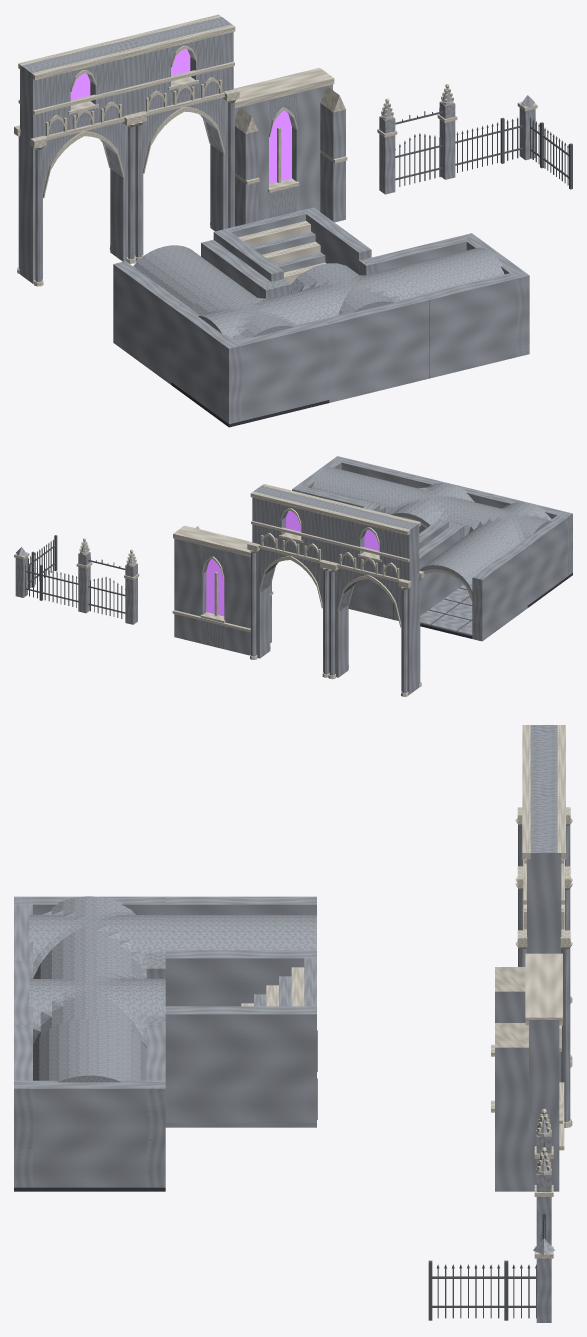
File: vampire-crypt-and-gothic-cathedral-cathedral-crypt-con-734285d9__23060.glb
The picture shows the model from 3 angles, top to bottom: view 1: azimuth 30°, elevation 25°; view 2: azimuth 150°, elevation 25°; view 3: azimuth 270°, elevation 25°; orthographic projection. The views are drawn at different scales.
Parts seen in each view (by area): view 1: 004-crypt-corridor-corner/1, 000-nave-bay/0, 005-crypt-corridor-tee/1, 006-crypt-corridor-end/1, 001-nave-bay/0, 002-aisle-bay/0, 003-crypt-corridor-straight/1, 007-crypt-stair/0, 000-nave-bay/2, 001-nave-bay/2, 002-aisle-bay/2, 011-iron-fence-gate/0 (+9 smaller); view 2: 003-crypt-corridor-straight/1, 000-nave-bay/0, 001-nave-bay/0, 002-aisle-bay/0, 004-crypt-corridor-corner/1, 006-crypt-corridor-end/1, 005-crypt-corridor-tee/1, 000-nave-bay/2, 001-nave-bay/2, 002-aisle-bay/2, 007-crypt-stair/0, 011-iron-fence-gate/0 (+7 smaller); view 3: 007-crypt-stair/0, 006-crypt-corridor-end/1, 002-aisle-bay/0, 004-crypt-corridor-corner/1, 005-crypt-corridor-tee/1, 003-crypt-corridor-straight/1, 001-nave-bay/0, 002-aisle-bay/2, 001-nave-bay/2, 000-nave-bay/0, 010-iron-fence-straight/0, 000-nave-bay/2 (+5 smaller).
Boxes of the visible parts, left/top/right/bottom form: 004-crypt-corridor-corner/1: left=171, top=282, right=329, bottom=424; 000-nave-bay/0: left=18, top=41, right=134, bottom=283; 005-crypt-corridor-tee/1: left=272, top=257, right=429, bottom=402; 006-crypt-corridor-end/1: left=372, top=233, right=529, bottom=378; 001-nave-bay/0: left=122, top=17, right=234, bottom=257; 002-aisle-bay/0: left=235, top=84, right=345, bottom=226; 003-crypt-corridor-straight/1: left=113, top=239, right=270, bottom=384; 007-crypt-stair/0: left=213, top=207, right=371, bottom=284; 000-nave-bay/2: left=14, top=39, right=138, bottom=286; 001-nave-bay/2: left=119, top=14, right=239, bottom=261; 002-aisle-bay/2: left=234, top=68, right=347, bottom=192; 011-iron-fence-gate/0: left=379, top=88, right=455, bottom=194; 003-crypt-corridor-straight/1: left=419, top=527, right=527, bottom=641; 000-nave-bay/0: left=329, top=505, right=420, bottom=694; 001-nave-bay/0: left=251, top=485, right=339, bottom=674; 002-aisle-bay/0: left=174, top=538, right=271, bottom=655; 004-crypt-corridor-corner/1: left=449, top=494, right=572, bottom=605; 006-crypt-corridor-end/1: left=292, top=456, right=415, bottom=507; 005-crypt-corridor-tee/1: left=380, top=475, right=493, bottom=533; 000-nave-bay/2: left=326, top=503, right=424, bottom=696; 001-nave-bay/2: left=247, top=484, right=341, bottom=677; 002-aisle-bay/2: left=172, top=525, right=273, bottom=632; 007-crypt-stair/0: left=348, top=502, right=448, bottom=620; 011-iron-fence-gate/0: left=78, top=541, right=137, bottom=624; 007-crypt-stair/0: left=165, top=950, right=316, bottom=1127; 006-crypt-corridor-end/1: left=14, top=1018, right=165, bottom=1187; 002-aisle-bay/0: left=495, top=991, right=559, bottom=1191; 004-crypt-corridor-corner/1: left=14, top=896, right=165, bottom=978; 005-crypt-corridor-tee/1: left=14, top=954, right=165, bottom=1048; 003-crypt-corridor-straight/1: left=165, top=896, right=316, bottom=950; 001-nave-bay/0: left=518, top=789, right=570, bottom=1122; 002-aisle-bay/2: left=491, top=953, right=564, bottom=1150; 001-nave-bay/2: left=515, top=789, right=572, bottom=1127; 000-nave-bay/0: left=518, top=725, right=570, bottom=866; 010-iron-fence-straight/0: left=428, top=1260, right=508, bottom=1320; 000-nave-bay/2: left=515, top=725, right=572, bottom=1061.
Size of the model in its own units: 20.4 by 8 by 14.76.
6 materials, 2 textured.
